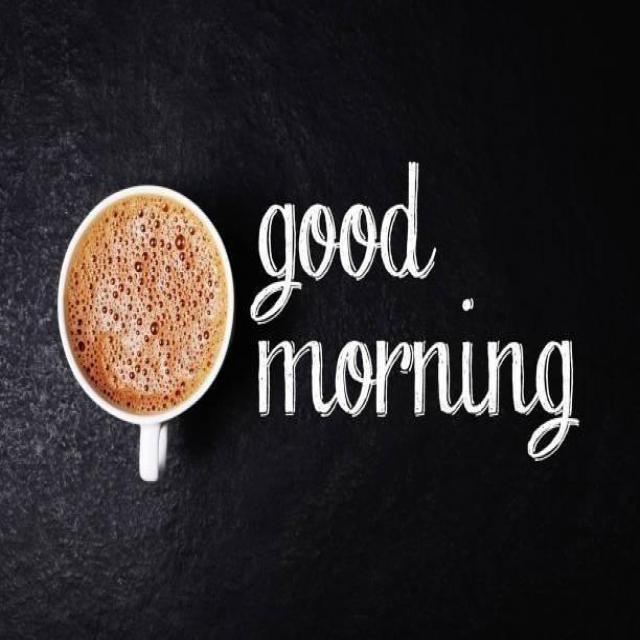cup-handle: (55, 179, 236, 485)
